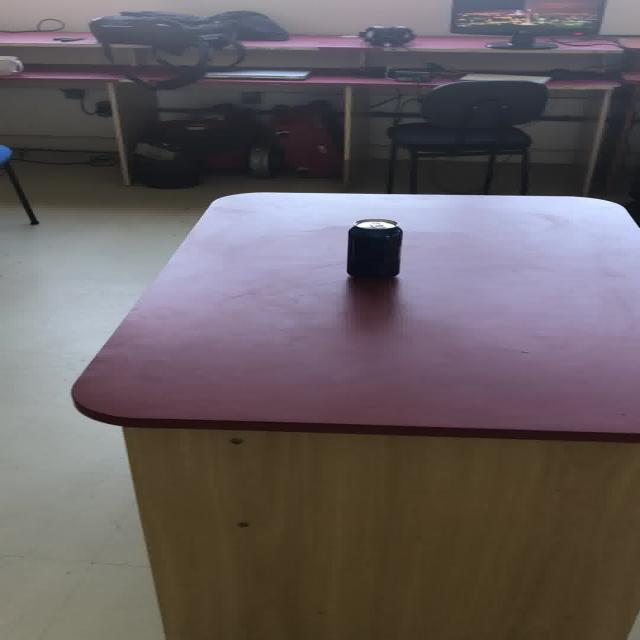tonic: (345, 218, 402, 278)
